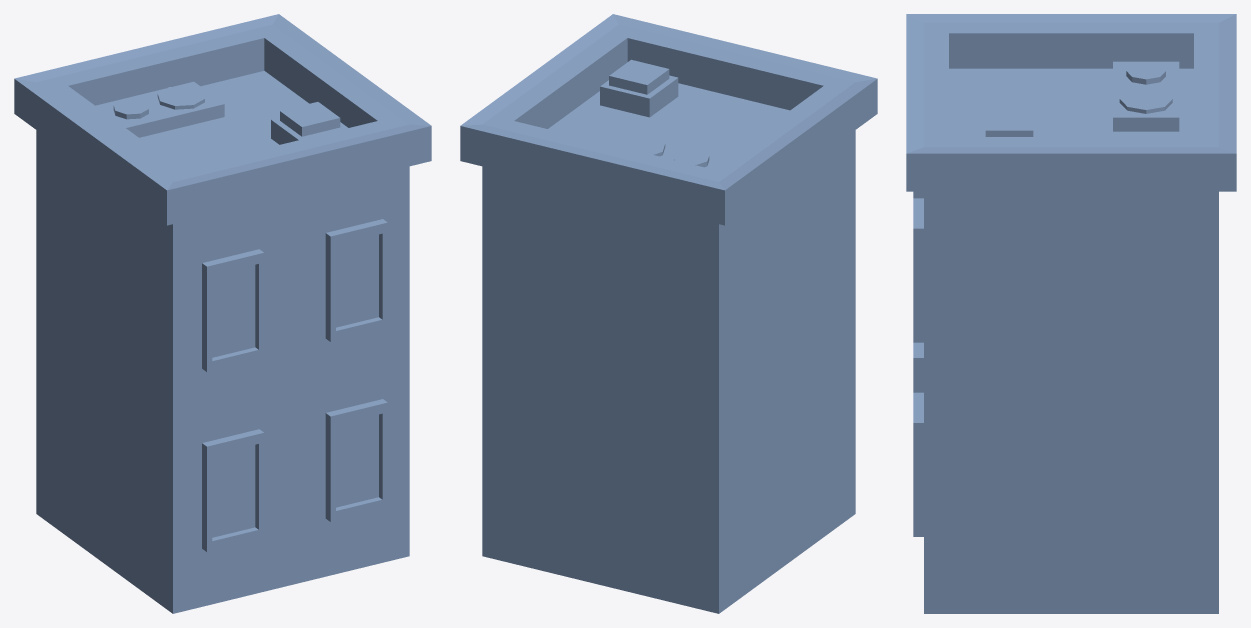
File: House 1.fbx
The picture shows the model from 3 angles, left to right: view 1: azimuth 30°, elevation 25°; view 2: azimuth 150°, elevation 25°; view 3: azimuth 270°, elevation 25°; orthographic projection. The views are drawn at different scales.
Parts seen in each view (by area): view 1: House_Appartment.012; view 2: House_Appartment.012; view 3: House_Appartment.012.
Boxes of the visible parts, <box> form: House_Appartment.012: <box>14,14,431,613</box>; House_Appartment.012: <box>460,14,877,613</box>; House_Appartment.012: <box>906,14,1236,613</box>.
Bounding box in the file's own units: 6400 × 10000 × 6400.
